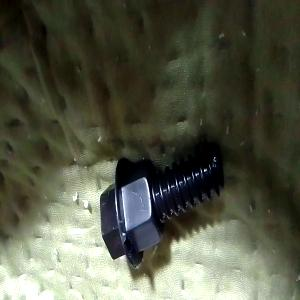parafuso: (100, 137, 226, 270)
